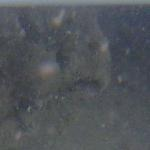dead: (5, 4, 146, 145)
